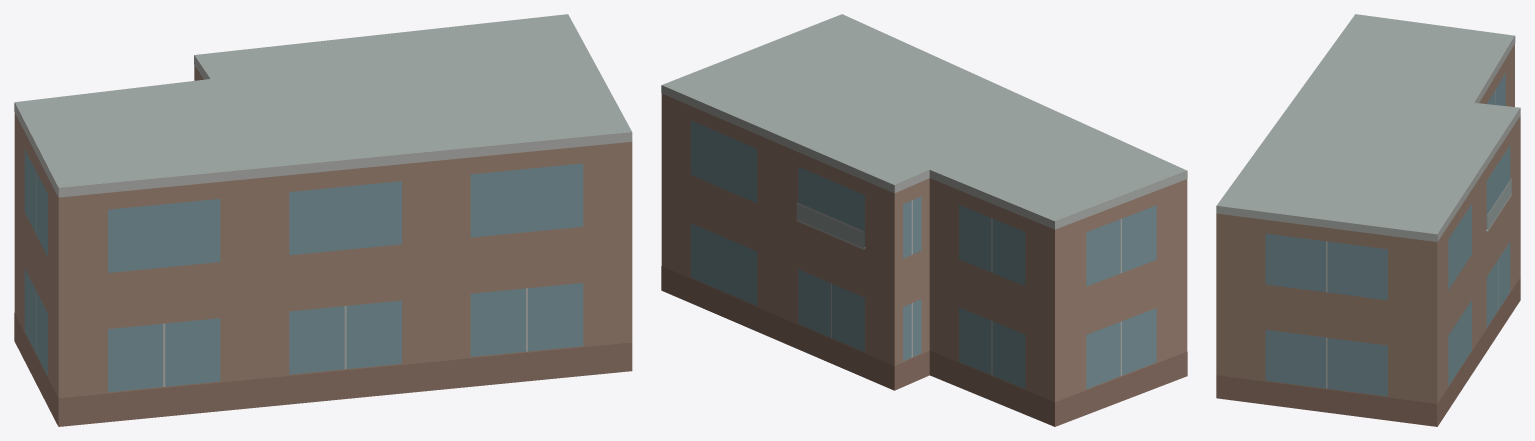
File: survey-upis-32603621.glb
3 renders of one model, left to right at view 1: azimuth 30°, elevation 25°; view 2: azimuth 150°, elevation 25°; view 3: azimuth 270°, elevation 25°, orthographic. The views are drawn at different scales.
Visible parts, largest first — view 1: survey-upis-32603621.tmp; view 2: survey-upis-32603621.tmp; view 3: survey-upis-32603621.tmp.
Part boxes in pixels (box(x1,y1,x2,y2)): survey-upis-32603621.tmp: box(14, 14, 632, 426); survey-upis-32603621.tmp: box(661, 14, 1187, 426); survey-upis-32603621.tmp: box(1216, 14, 1520, 426).
Size of the model in its own units: 14.99 by 6.1 by 8.75.
